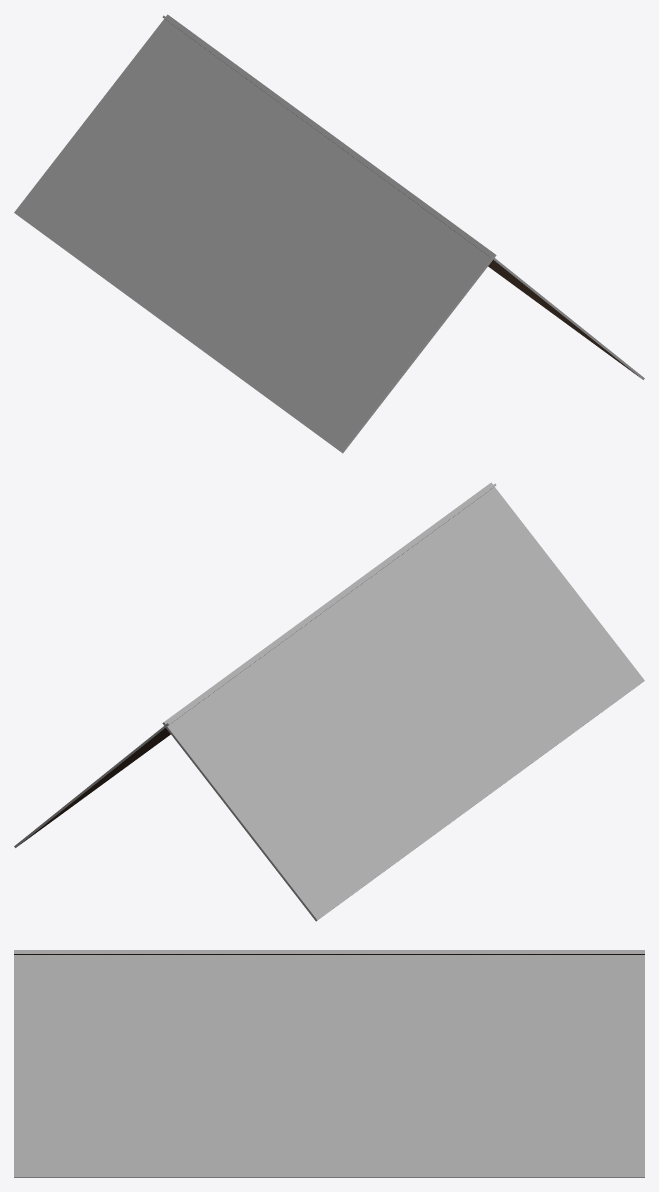
File: telhado.fbx
The picture shows the model from 3 angles, top to bottom: view 1: azimuth 30°, elevation 25°; view 2: azimuth 150°, elevation 25°; view 3: azimuth 270°, elevation 25°; orthographic projection. The views are drawn at different scales.
Visible parts, largest first — view 1: pPlane9, pPlane6; view 2: pPlane9, pPlane6; view 3: pPlane6, pPlane9.
Boxes of the visible parts, x1,y1,x2,y2 form: pPlane9: (14,14,496,453); pPlane6: (162,15,644,379); pPlane9: (162,482,644,921); pPlane6: (14,483,496,847); pPlane6: (14,950,644,1177); pPlane9: (14,952,644,954).
Bounding box in the file's own units: 12.01 × 6.14 × 22.45.
Materials: 2 (1 with a texture image).
